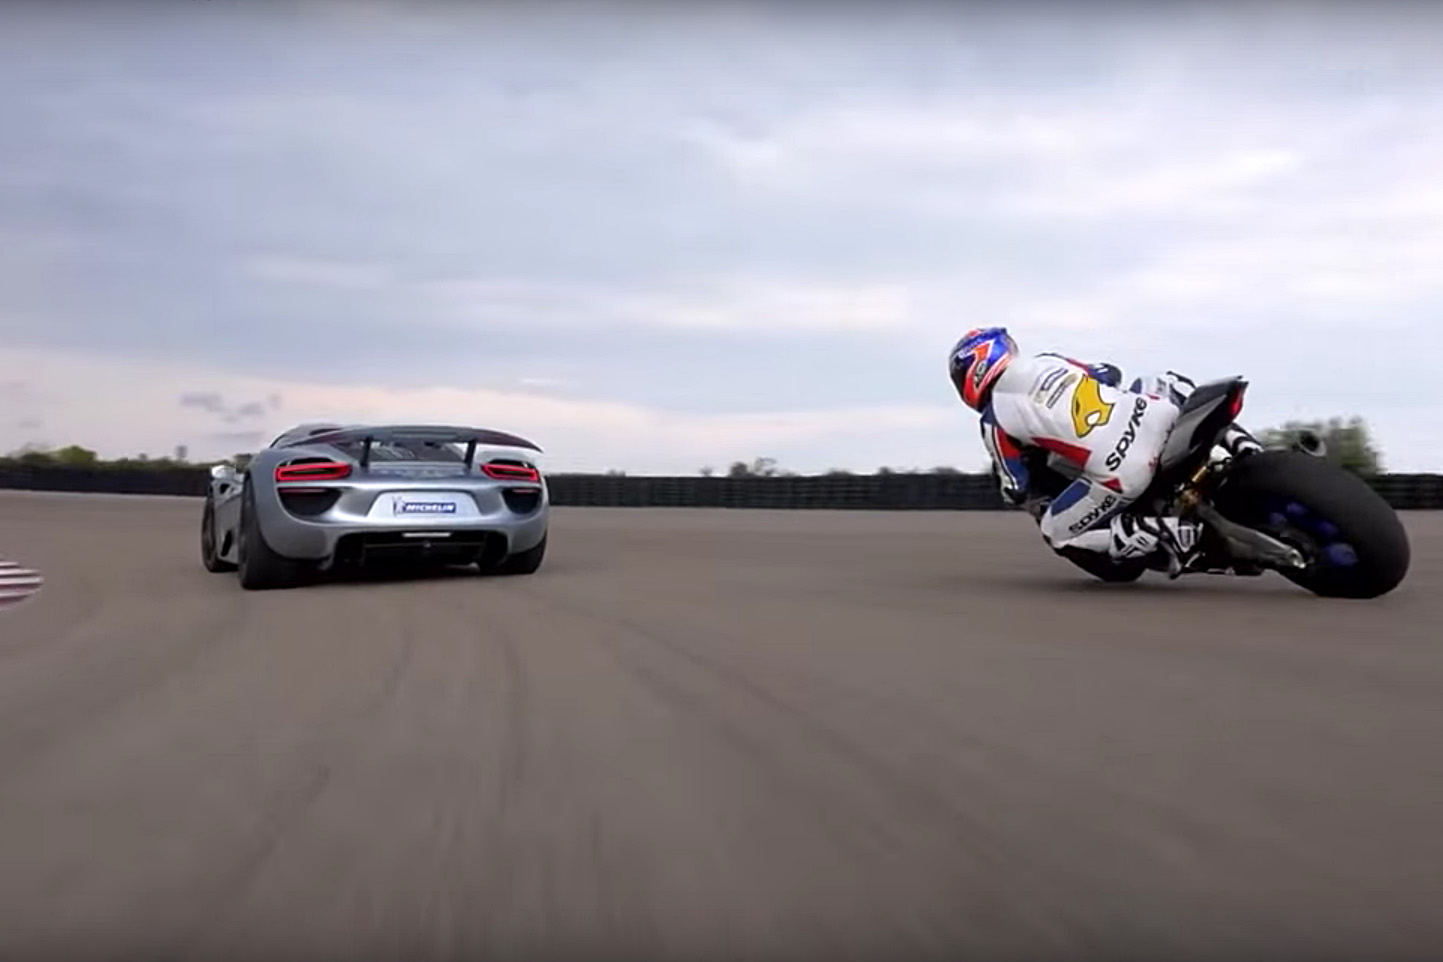car: (170, 400, 581, 602)
motorcycle: (906, 332, 1443, 624)
